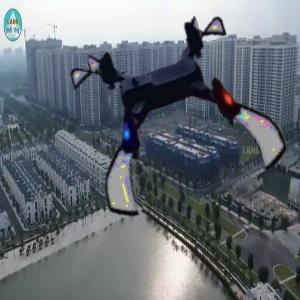drone: (83, 20, 277, 214)
